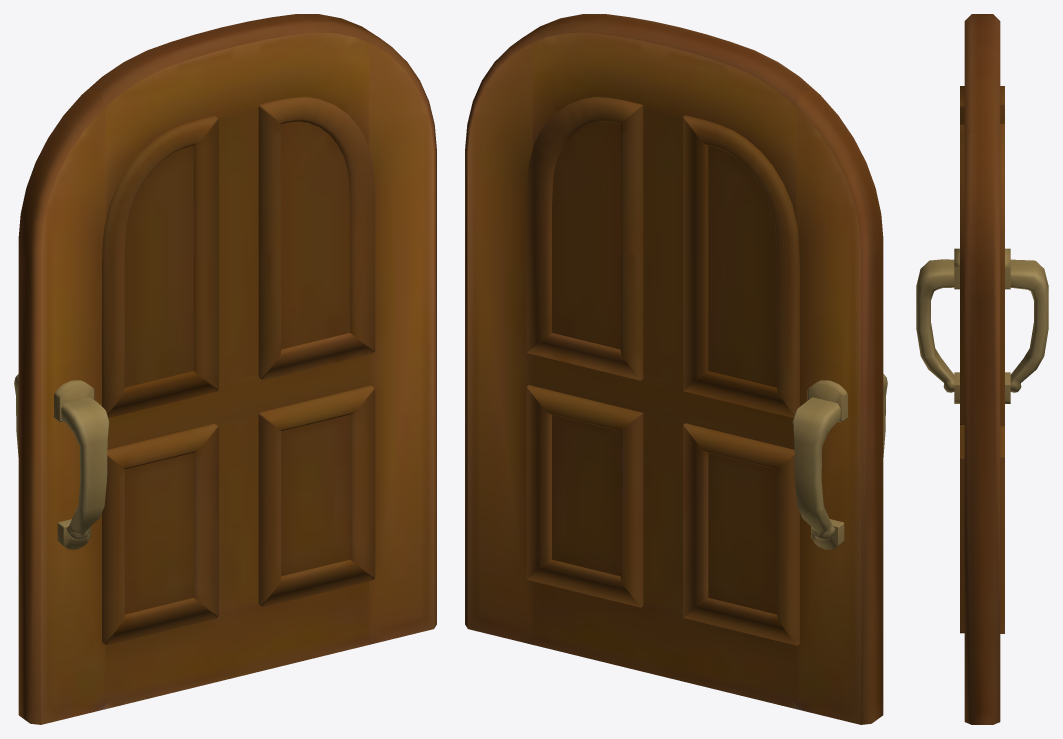
The model's file is door-relief-r.glb.
3 renders of one model, left to right at view 1: azimuth 30°, elevation 25°; view 2: azimuth 150°, elevation 25°; view 3: azimuth 270°, elevation 25°, orthographic. The views are drawn at different scales.
Size of the model in its own units: 12 by 18 by 3.69.
1 material, 1 textured.
